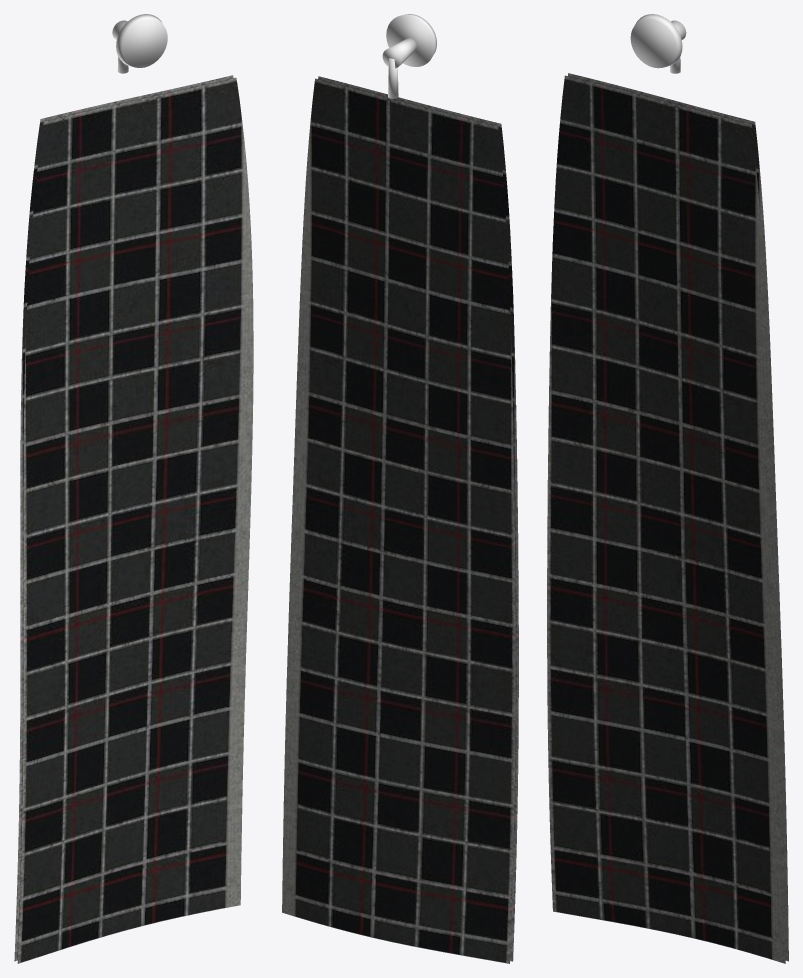
File: recwBXgIvbnchDkl2.glb
The picture shows the model from 3 angles, left to right: view 1: azimuth 30°, elevation 25°; view 2: azimuth 150°, elevation 25°; view 3: azimuth 330°, elevation 25°; orthographic projection. The views are drawn at different scales.
Parts seen in each view (by area): view 1: essuie_mains_wc_etage_Corps002, essuie_mains_wc_etage_Corps002_1; view 2: essuie_mains_wc_etage_Corps002, essuie_mains_wc_etage_Corps002_1; view 3: essuie_mains_wc_etage_Corps002, essuie_mains_wc_etage_Corps002_1.
Part boxes in pixels (<box>): essuie_mains_wc_etage_Corps002: <box>14,75,253,963</box>; essuie_mains_wc_etage_Corps002_1: <box>112,14,167,73</box>; essuie_mains_wc_etage_Corps002: <box>282,76,518,963</box>; essuie_mains_wc_etage_Corps002_1: <box>382,14,436,98</box>; essuie_mains_wc_etage_Corps002: <box>547,73,788,963</box>; essuie_mains_wc_etage_Corps002_1: <box>630,14,686,73</box>.
Size of the model in its own units: 0.24 by 0.936 by 0.045.
Materials: 2 (1 with a texture image).
